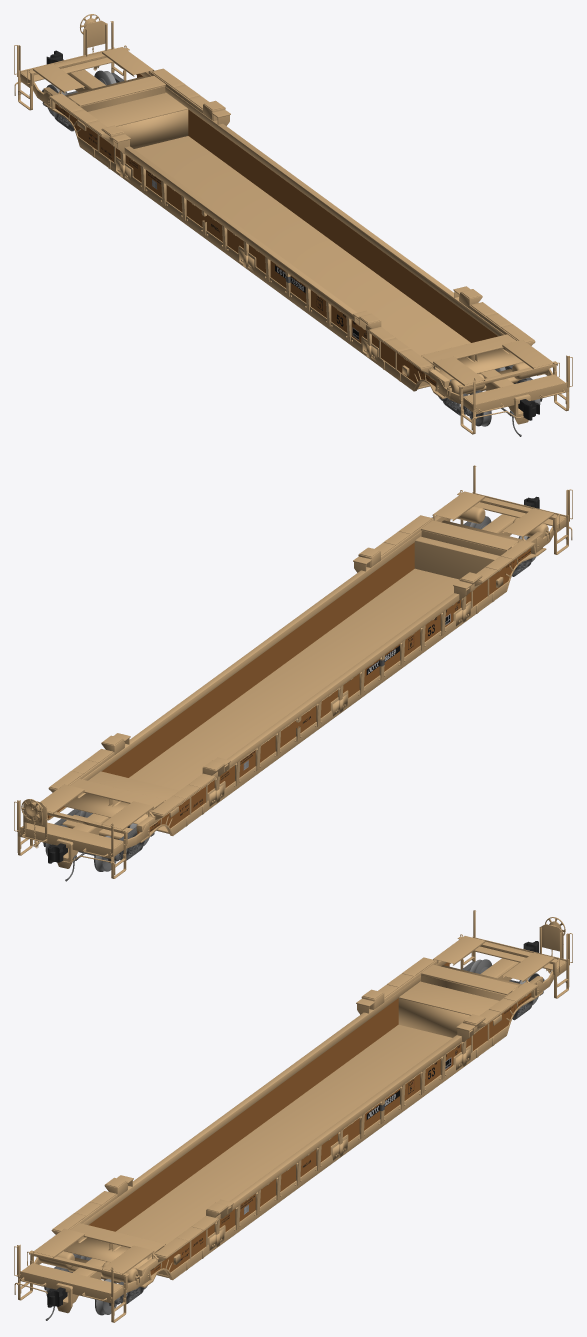
The model's file is wellcar_ttx.glb.
3 renders of one model, top to bottom at view 1: azimuth 30°, elevation 25°; view 2: azimuth 150°, elevation 25°; view 3: azimuth 330°, elevation 25°, orthographic.
Visible parts, largest first — view 1: Body_Body.001; view 2: Body_Body.001, Truck_Rear_Truck_Rear.001; view 3: Body_Body.001.
Boxes of the visible parts, x1=… form: Body_Body.001: x1=14, y1=14, x2=572, y2=436; Body_Body.001: x1=14, y1=465, x2=572, y2=881; Truck_Rear_Truck_Rear.001: x1=43, y1=809, x2=154, y2=862; Body_Body.001: x1=14, y1=910, x2=572, y2=1322.
Bounding box in the file's own units: 3.41 × 2.11 × 24.9.
18 materials, 3 textured.
